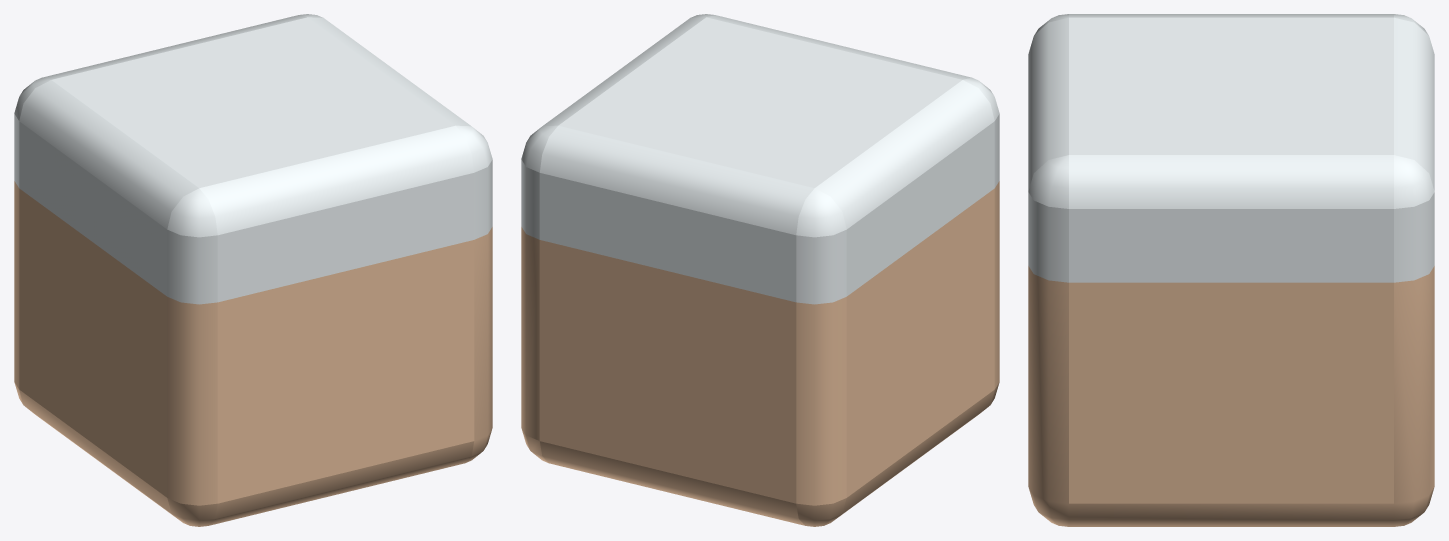
The picture shows the model from 3 angles, left to right: view 1: azimuth 30°, elevation 25°; view 2: azimuth 150°, elevation 25°; view 3: azimuth 270°, elevation 25°; orthographic projection. The views are drawn at different scales.
Parts seen in each view (by area): view 1: blockSnowRounded; view 2: blockSnowRounded; view 3: blockSnowRounded.
Boxes of the visible parts, x1,y1,x2,y2 form: blockSnowRounded: (14, 14, 492, 526); blockSnowRounded: (521, 14, 999, 526); blockSnowRounded: (1028, 14, 1434, 526).
Bounding box in the file's own units: 1 × 1 × 1.
